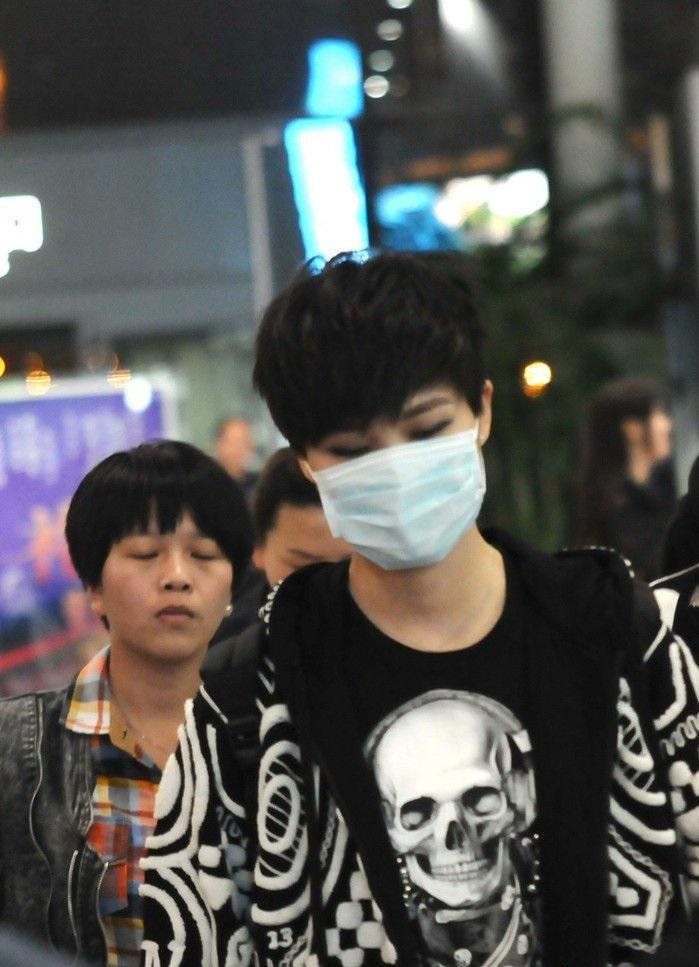NONE: (109, 531, 232, 649)
OK: (308, 387, 482, 567)
